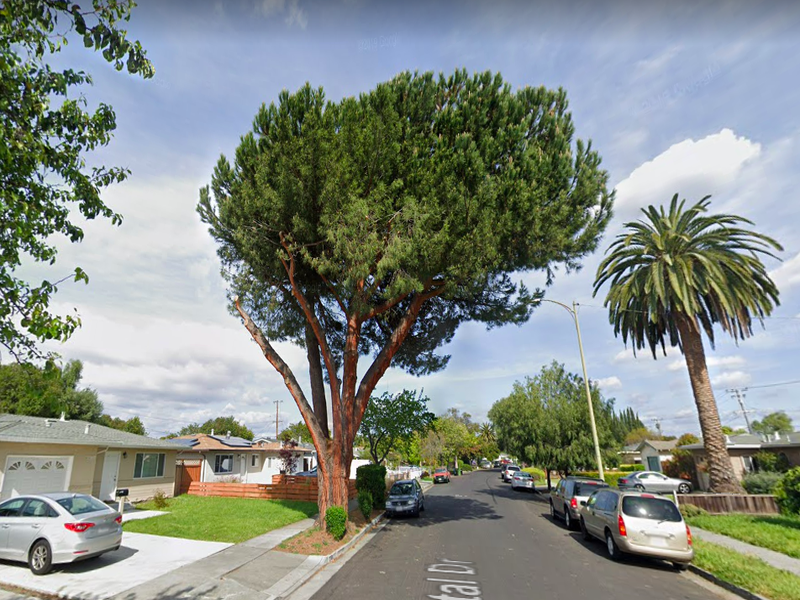tree: (194, 66, 619, 541), (592, 192, 784, 497)
